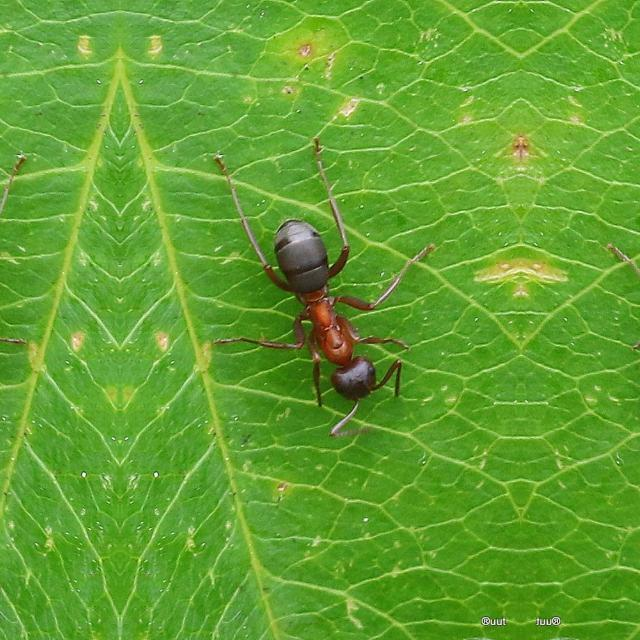Formica: (236, 208, 426, 410)
